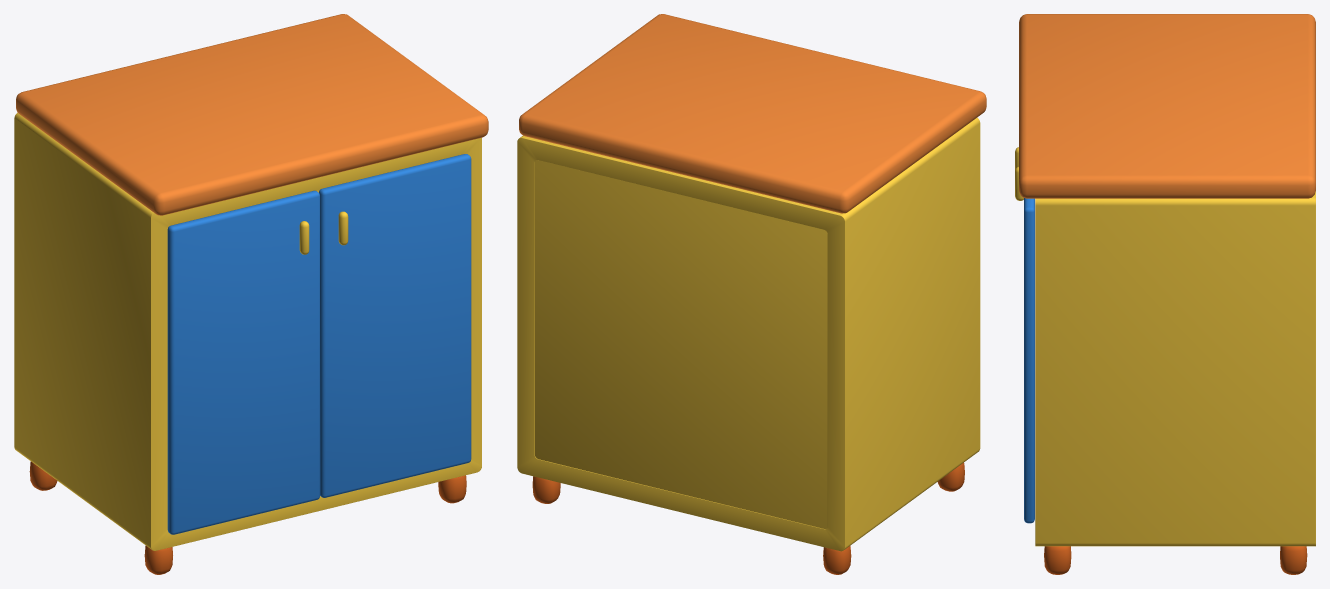
File: armario_cozinha_base_2portas_moderna.glb
3 views of the same model, side by side, from view 1: azimuth 30°, elevation 25°; view 2: azimuth 150°, elevation 25°; view 3: azimuth 270°, elevation 25° (orthographic). The views are drawn at different scales.
Visible parts, largest first — view 1: armario_cozinha_base_2portas_moderna, porta_1, porta_2; view 2: armario_cozinha_base_2portas_moderna; view 3: armario_cozinha_base_2portas_moderna, porta_2.
Boxes of the visible parts, <box> form: armario_cozinha_base_2portas_moderna: <box>14,14,488,574</box>; porta_1: <box>167,190,319,534</box>; porta_2: <box>319,154,471,497</box>; armario_cozinha_base_2portas_moderna: <box>517,14,986,574</box>; armario_cozinha_base_2portas_moderna: <box>1019,14,1315,574</box>; porta_2: <box>1015,166,1034,523</box>.
Size of the model in its own units: 0.798 by 0.9 by 0.607.
Materials: 1 (1 with a texture image).
